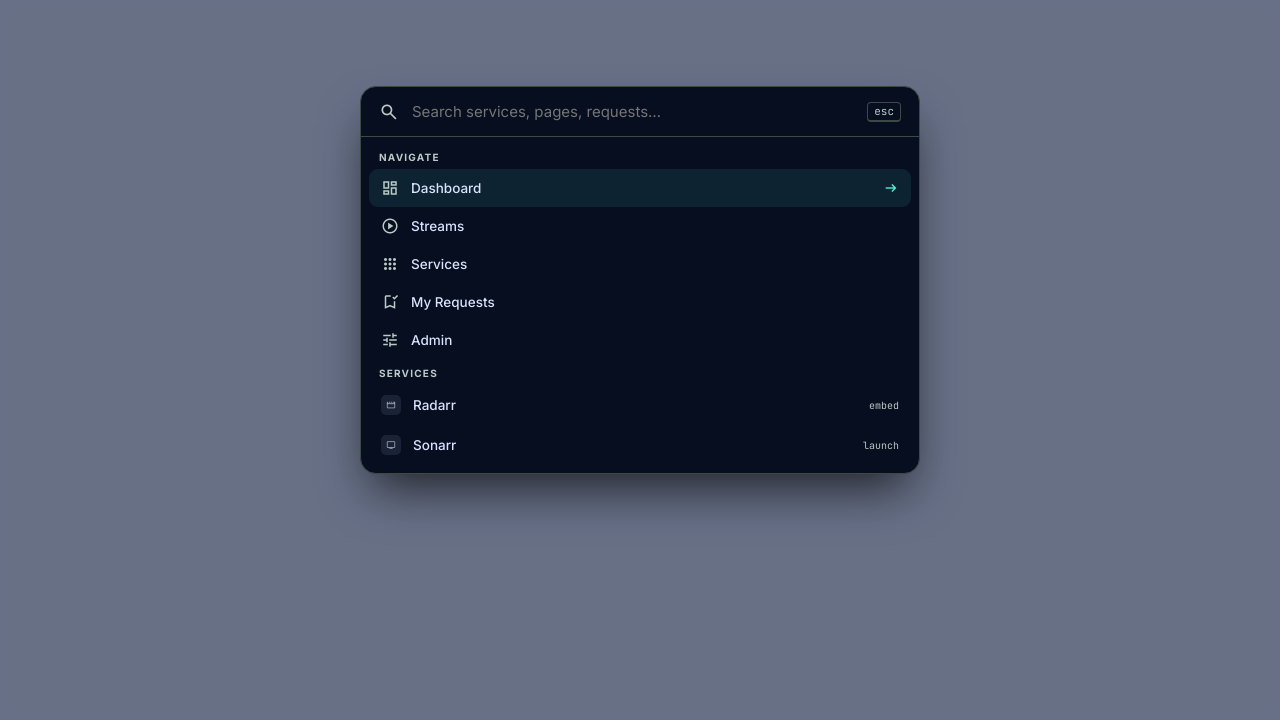
Scenario: CommandPalette › filters nav items by label
This screenshot has width=1280, height=720.
Type "admin" into the dropdown with placeholder "Search services, pages, requests…".
click(633, 112); type("admin")  # box [410,101,856,122]
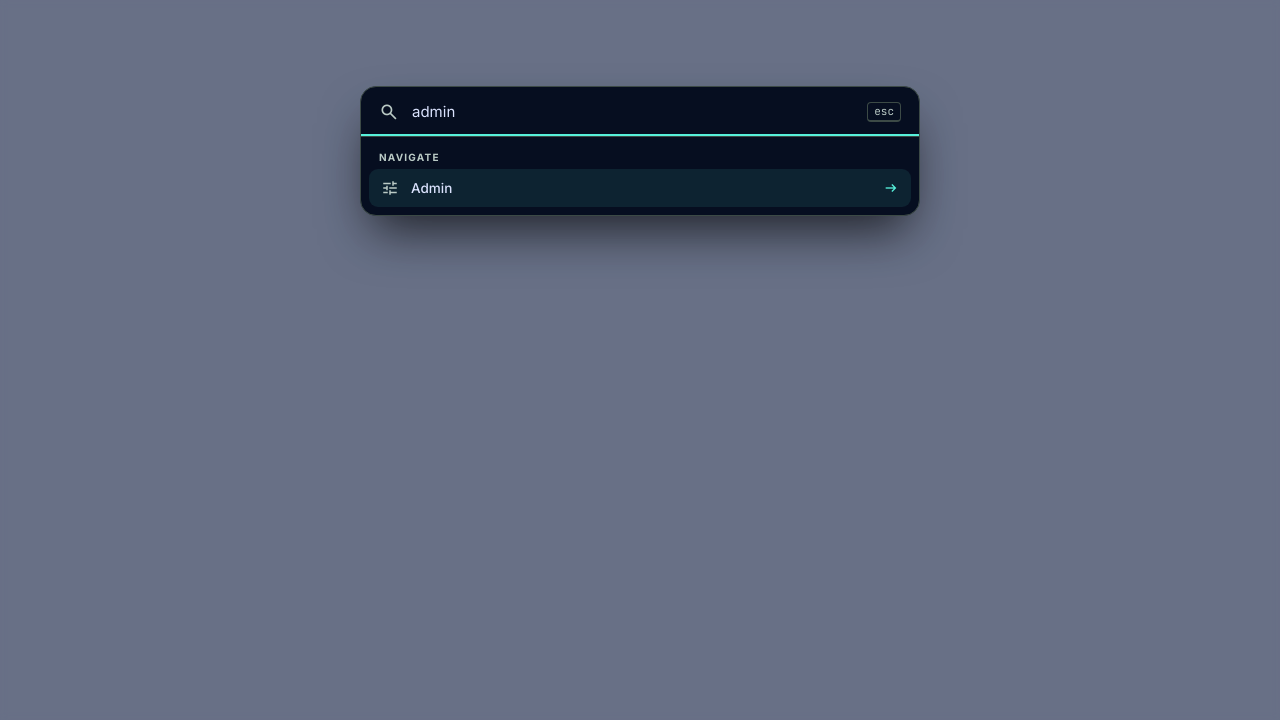
Check: the text "Admin" is shown, box [411,180,452,196]
Check: the option "Dashboard" is gone
